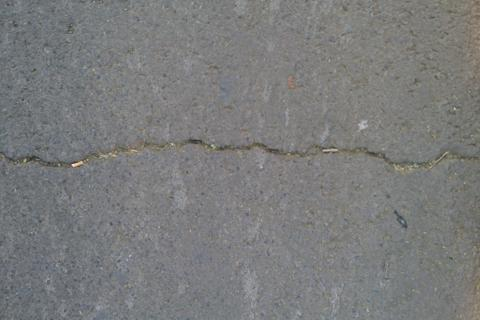crack: (1, 135, 480, 172)
